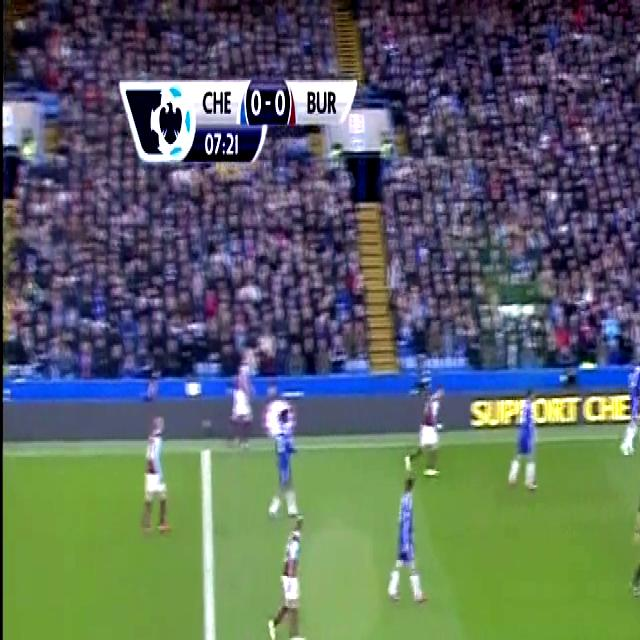referee: (622, 457, 640, 594)
soccer-player: (382, 482, 434, 620), (134, 405, 178, 543), (267, 510, 311, 640), (407, 365, 452, 484), (507, 371, 543, 506), (267, 403, 302, 531), (616, 345, 640, 469), (208, 634, 274, 640)
